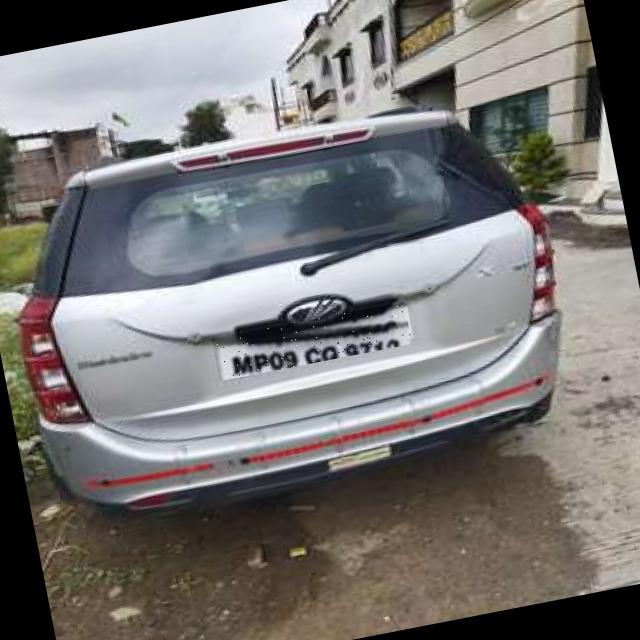Plate: (213, 303, 414, 383)
